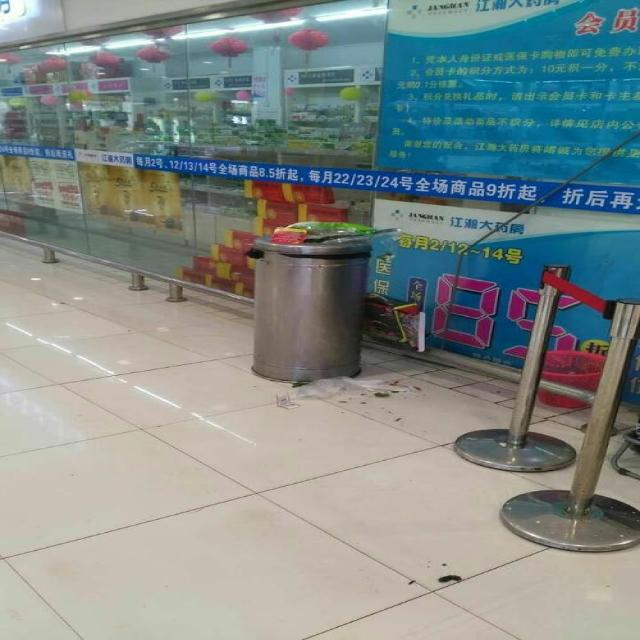garbage: (276, 375, 422, 408)
overflow: (247, 220, 401, 378)
